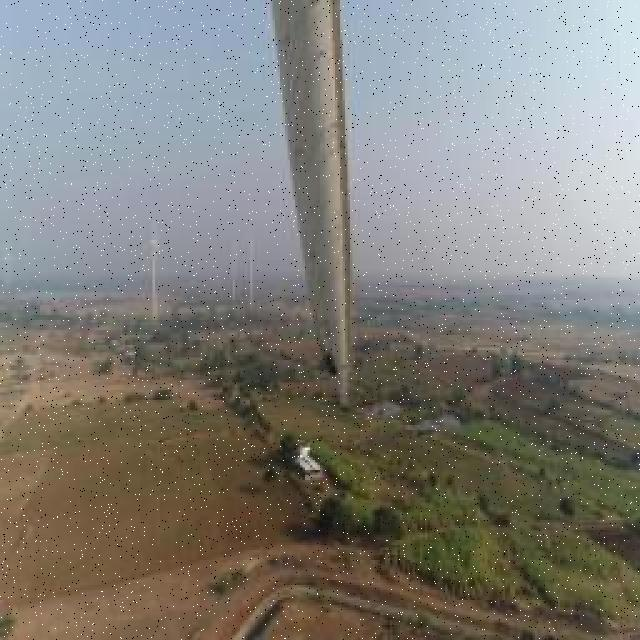Dirt: (267, 0, 350, 402)
Oil LEAKAGE: (325, 354, 341, 378)
